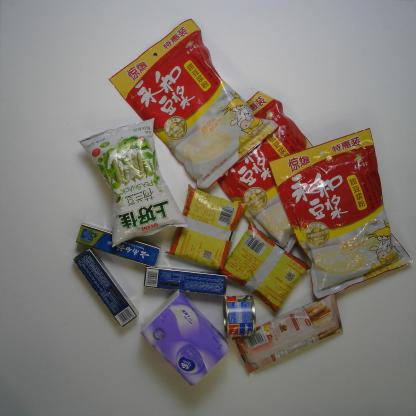Canned Food: (221, 292, 259, 342)
Dessert: (230, 292, 344, 377)
Instant Drink: (105, 15, 283, 193), (266, 126, 415, 302), (212, 88, 319, 257)
Personal Hygiene: (70, 245, 140, 329), (74, 219, 162, 270), (140, 264, 230, 298)
Puffed Food: (76, 115, 190, 250)
Seasoner: (217, 219, 312, 315), (164, 180, 250, 274)
Tissue: (136, 288, 232, 388)
